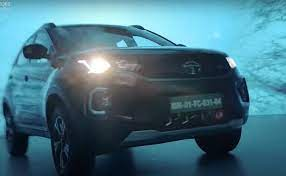Tata Nexon: (3, 22, 250, 171)
